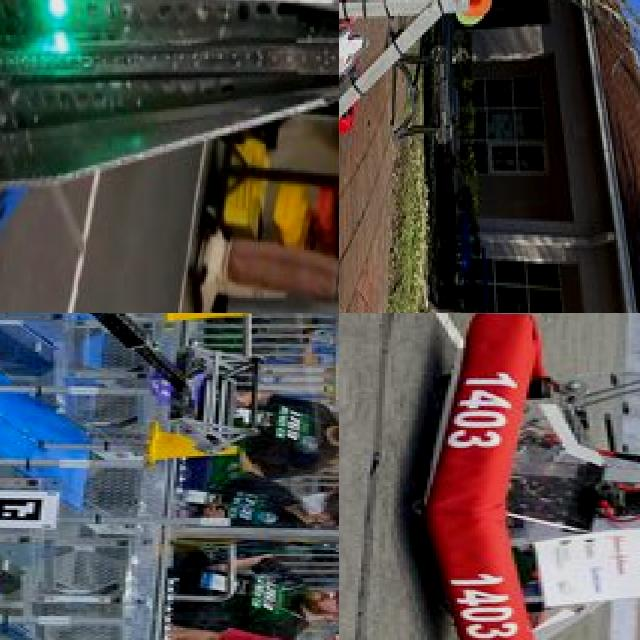FRC-Robots: (0, 0, 339, 313), (339, 0, 616, 313), (380, 313, 640, 640), (0, 313, 229, 376)
